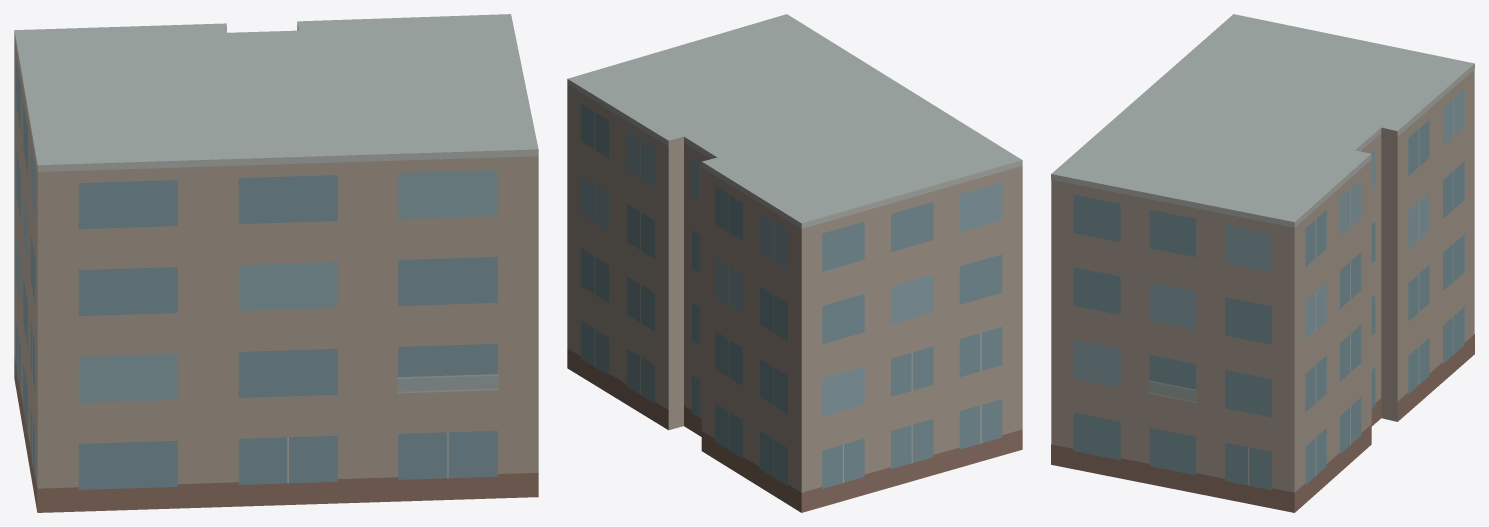
File: survey-upis-33019151.glb
3 views of the same model, side by side, from view 1: azimuth 30°, elevation 25°; view 2: azimuth 150°, elevation 25°; view 3: azimuth 270°, elevation 25° (orthographic). The views are drawn at different scales.
Visible parts, largest first — view 1: survey-upis-33019151.tmp; view 2: survey-upis-33019151.tmp; view 3: survey-upis-33019151.tmp.
Boxes of the visible parts, x1=… form: survey-upis-33019151.tmp: x1=14, y1=14, x2=538, y2=512; survey-upis-33019151.tmp: x1=567, y1=14, x2=1022, y2=512; survey-upis-33019151.tmp: x1=1051, y1=14, x2=1474, y2=512.
Size of the model in its own units: 19.28 by 12.55 by 16.58.
